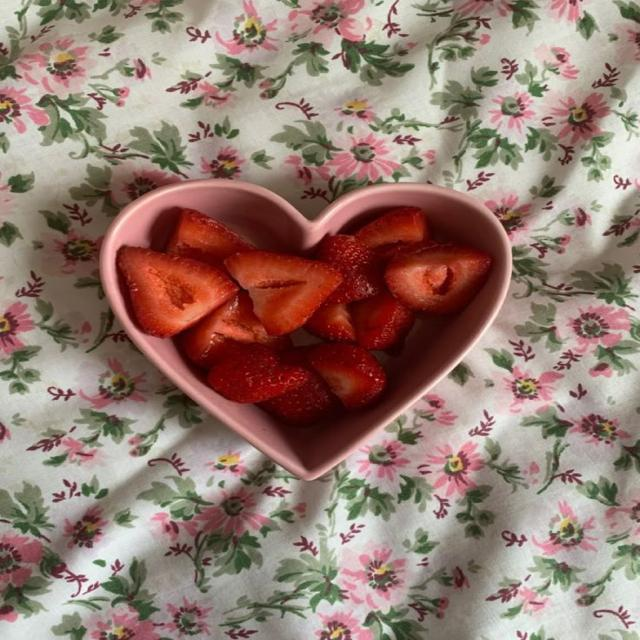strawberry sliced: (117, 247, 237, 337), (225, 251, 341, 335), (179, 291, 291, 367), (386, 244, 491, 313), (260, 348, 343, 427), (208, 343, 309, 403), (309, 344, 386, 409), (167, 209, 253, 266), (315, 235, 384, 304), (351, 291, 415, 349), (355, 207, 428, 257), (305, 304, 355, 342)
